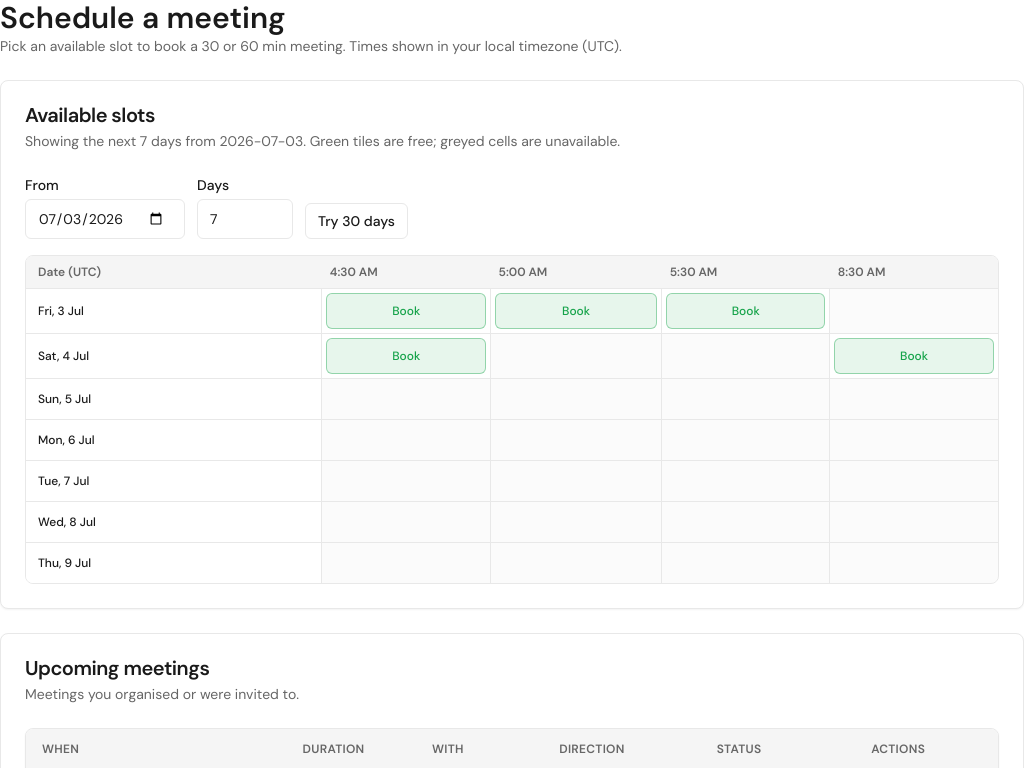
Test: SchedulePage — participant booking flow › opens the booking dialog when a slot is clicked
Expected: the element with test id "slot-grid" is shown, left=25, top=255, right=999, bottom=584
Click the 1st button "Book". click: point(406, 311)
box: left=326, top=293, right=486, bottom=329
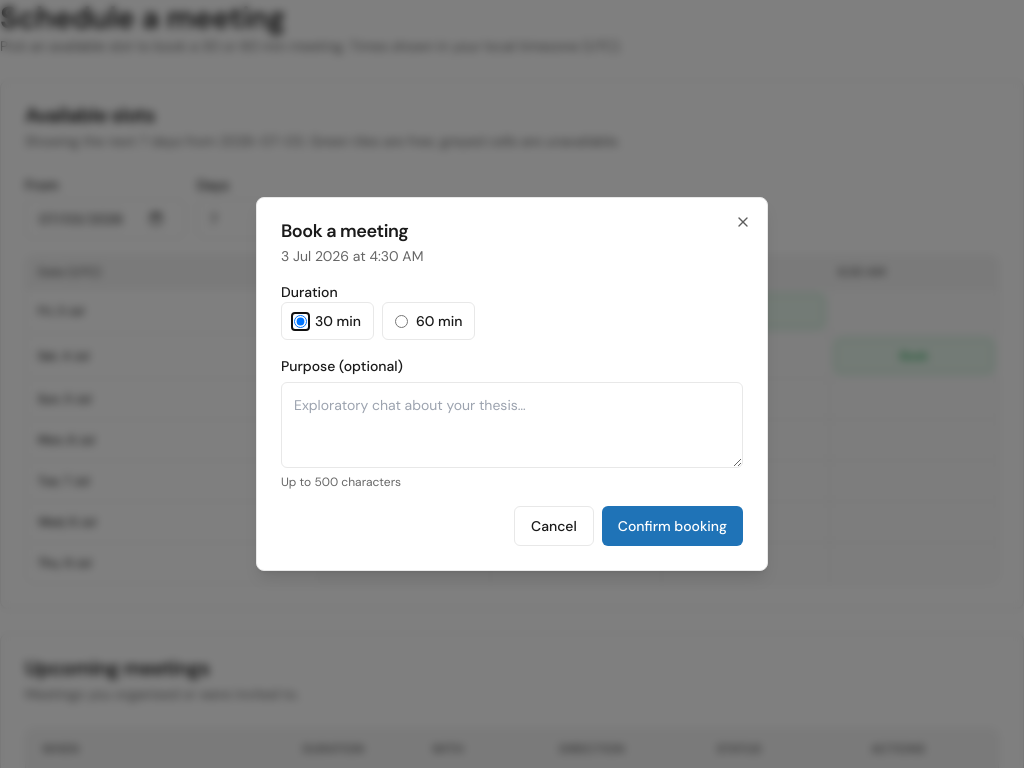
Expected: the dialog "Book a meeting 3 Jul 2026 at 4:30 AM Cancel Confirm booking" is shown, left=256, top=197, right=768, bottom=571
Expected: the radio button labelled "30 min" is shown, left=294, top=314, right=307, bottom=328
Expected: the radio button labelled "60 min" is shown, left=395, top=314, right=408, bottom=328
